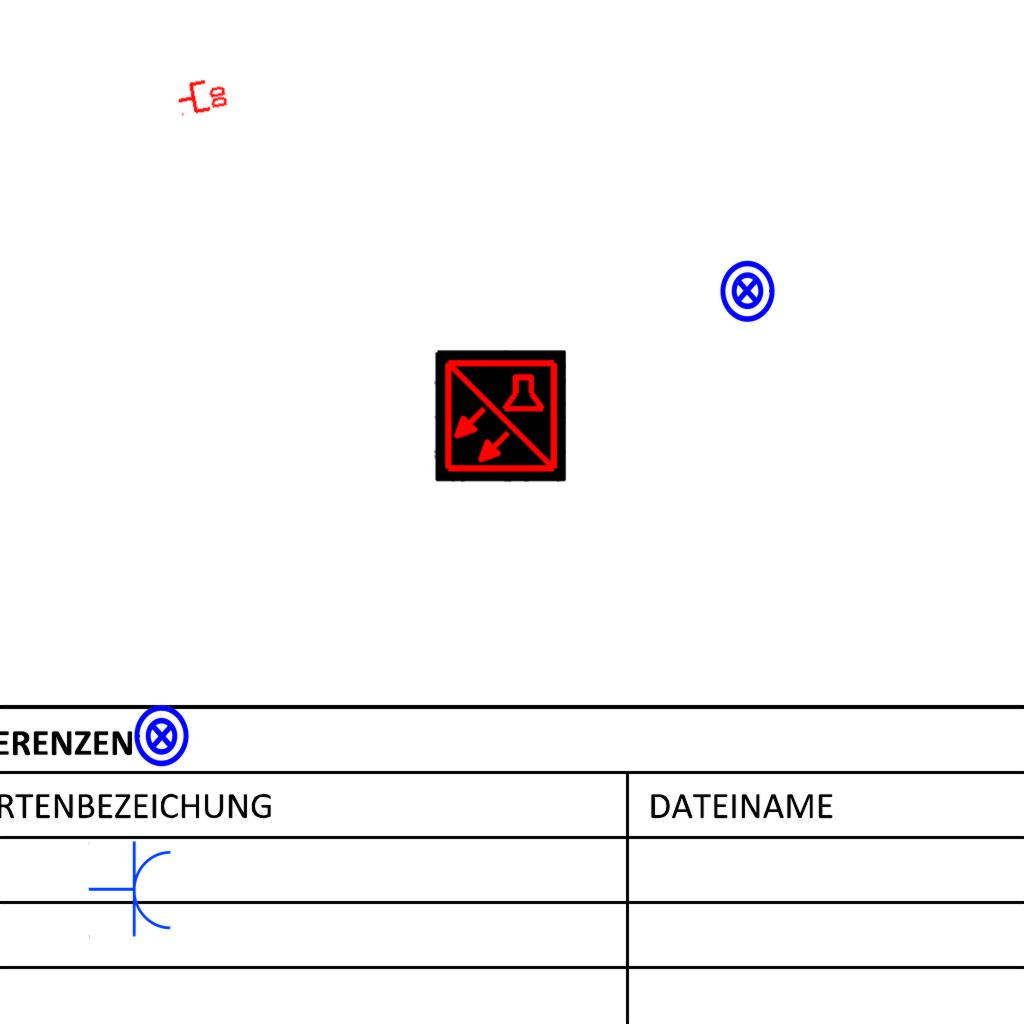Datenanschluss_zweifach: (173, 73, 231, 118)
OKW_Multisensormelder_(Kombination_optischer_Rauch-Kahlenmonoxid_Waerme-Melder): (434, 350, 566, 482)
Schukosteckdose_einfach: (88, 840, 175, 940)
Taster_beleuchtet: (714, 258, 780, 324), (129, 703, 195, 769)
